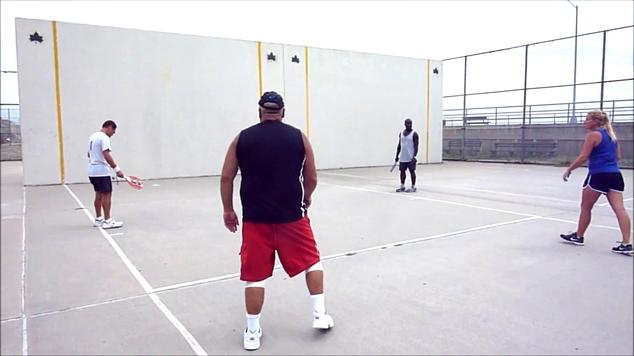stay: (226, 86, 316, 299), (83, 113, 123, 234), (396, 105, 421, 204)
walk: (561, 106, 627, 253), (83, 113, 123, 234)
